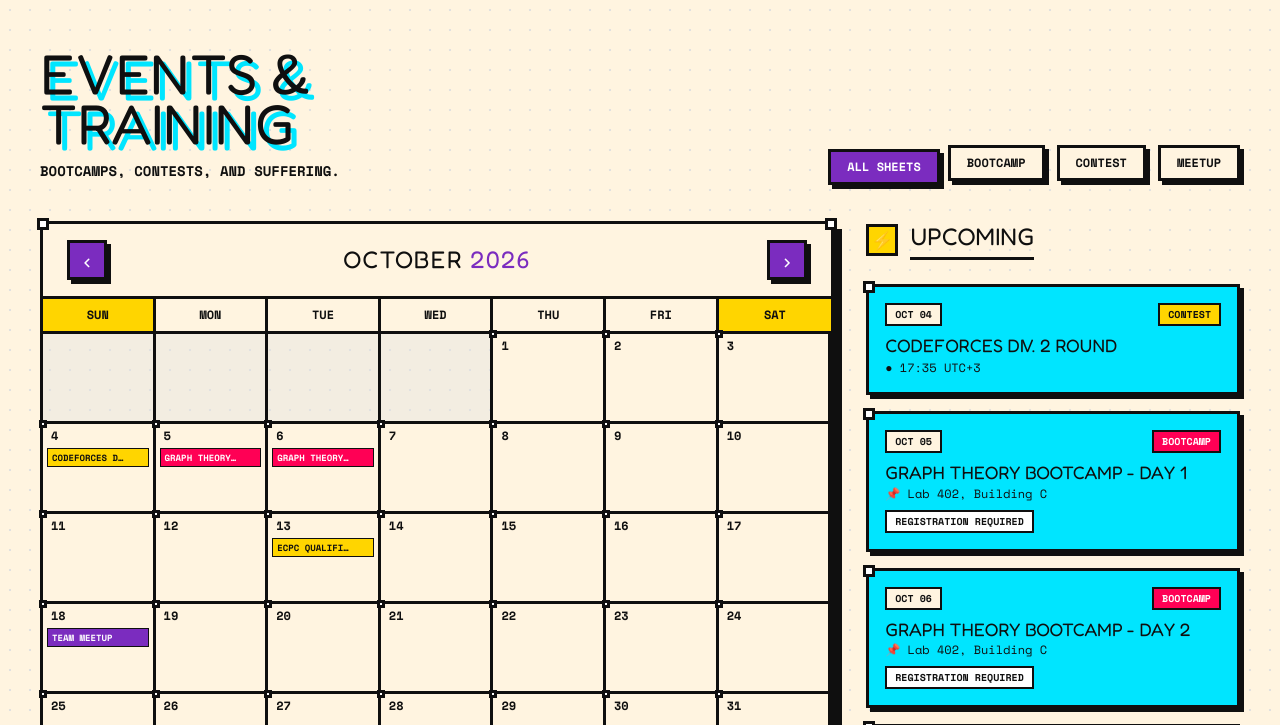
Scenario: EventsPage › derives the leading weekday offset for each displayed month
Click the button named "Previous month" at (87, 260), box [67,240,107,280]
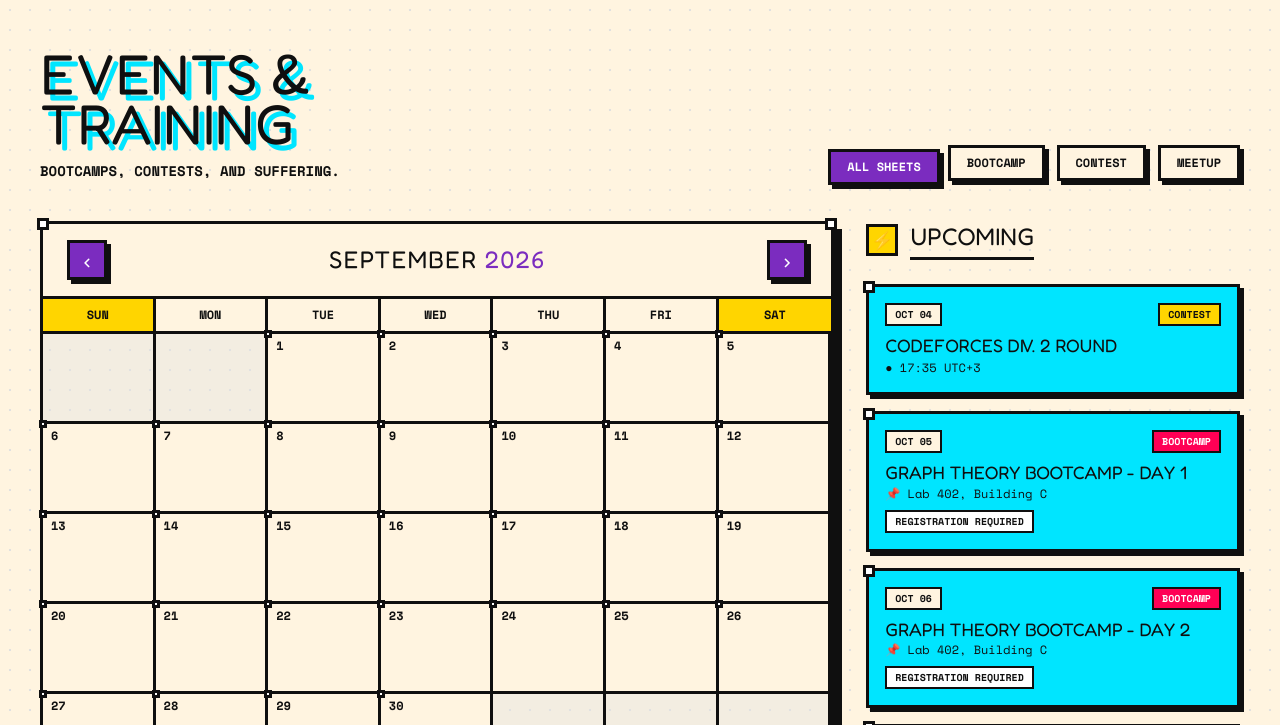
Expected: the button "Codeforces D…" is gone
